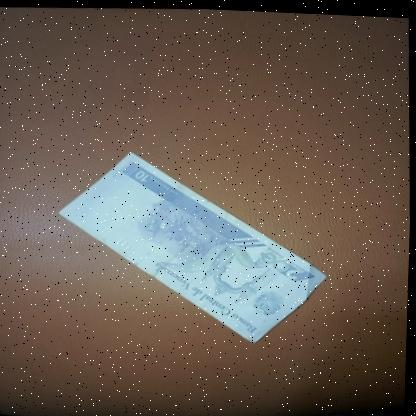ten-back-vef: (52, 142, 335, 352)
